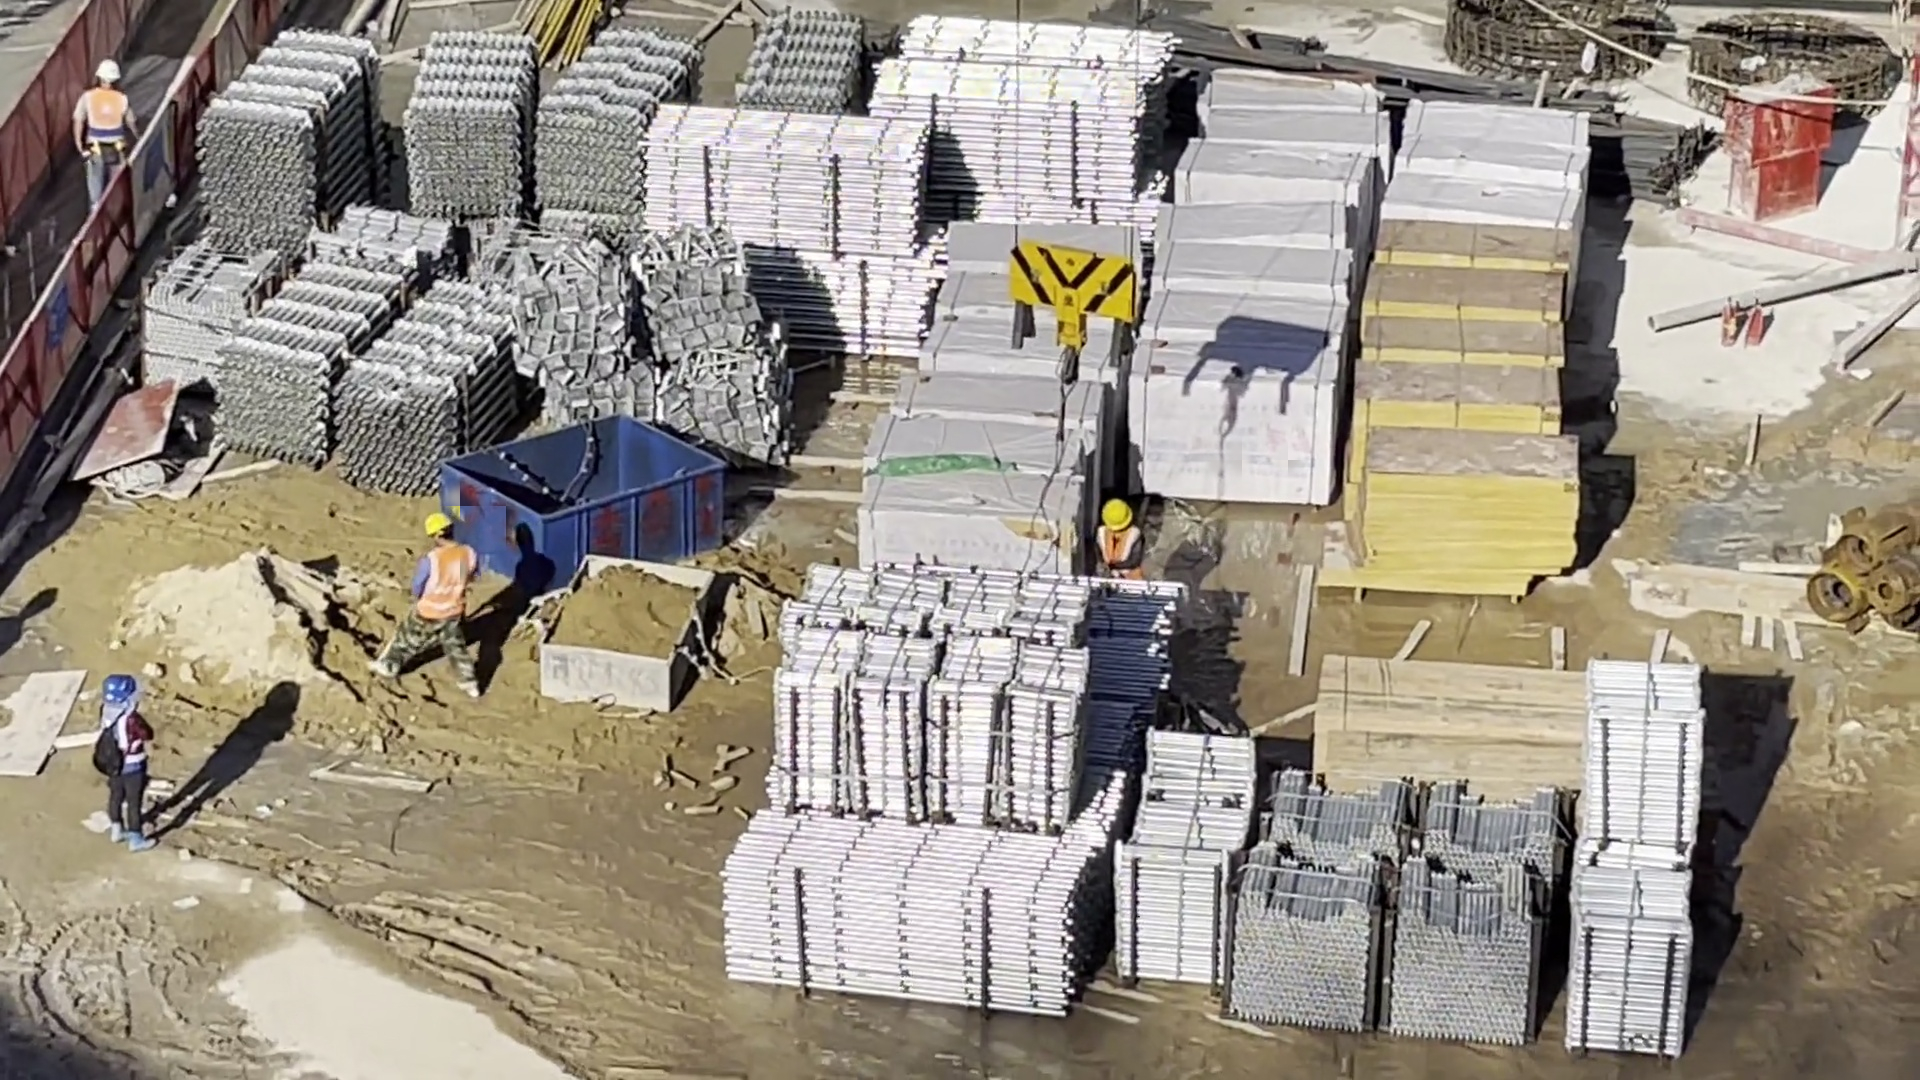fence: (1, 1, 241, 431)
helmet: (84, 47, 136, 97), (400, 501, 457, 537), (1097, 489, 1136, 536), (100, 669, 137, 709)
hook: (983, 221, 1184, 411)
hopper: (452, 385, 716, 561), (545, 550, 686, 688)
person: (374, 511, 495, 722), (81, 679, 186, 845), (74, 54, 140, 209), (1088, 500, 1159, 591)
scaffold: (802, 564, 1096, 1015), (1124, 735, 1539, 1007), (644, 6, 927, 356), (234, 207, 468, 454), (1585, 681, 1704, 1053), (937, 12, 1165, 206), (204, 12, 386, 217), (503, 22, 663, 204), (405, 46, 549, 206)
vest: (414, 551, 457, 607), (1101, 527, 1148, 578), (83, 96, 123, 135)
